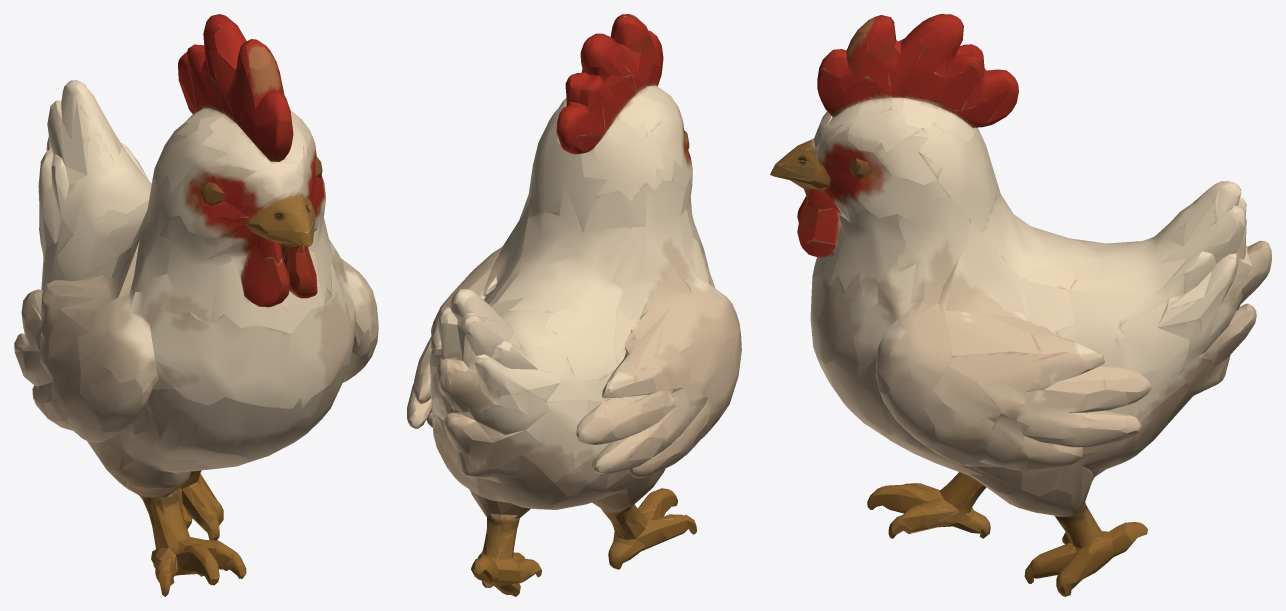
File: chicken.glb
The picture shows the model from 3 angles, left to right: view 1: azimuth 30°, elevation 25°; view 2: azimuth 150°, elevation 25°; view 3: azimuth 270°, elevation 25°; orthographic projection. The views are drawn at different scales.
Size of the model in its own units: 1.04 by 1.9 by 1.56.
1 material, 1 textured.
